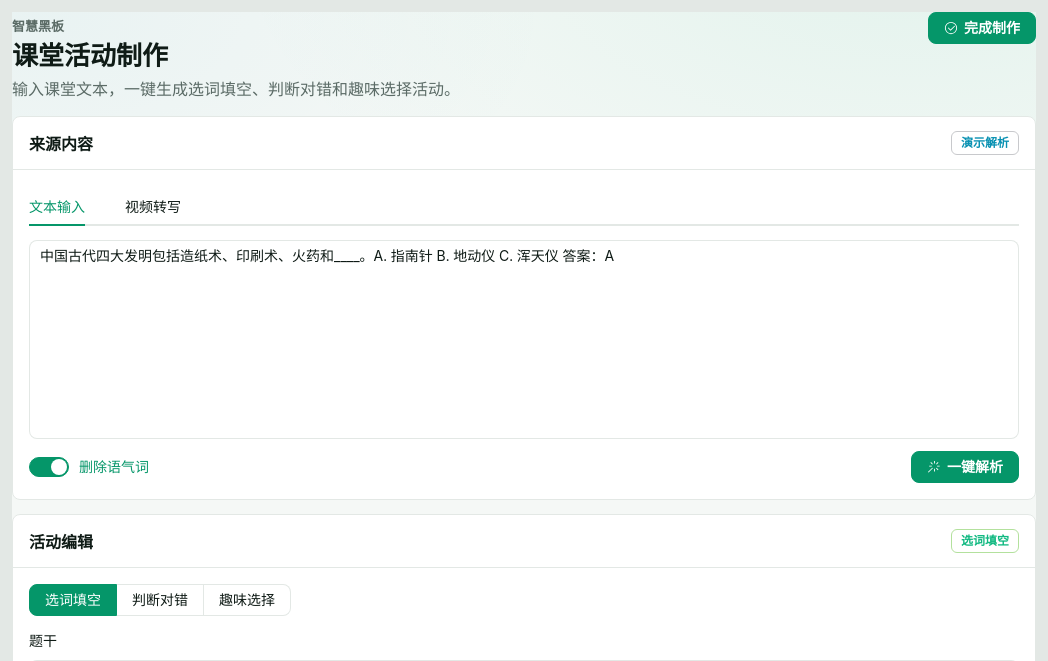
Test case: SmartBlackboardView › shows inline validation when parsing empty source text
Clear the text box with test id "blackboard-source-input" at (524, 340), box [29,240,1019,439]
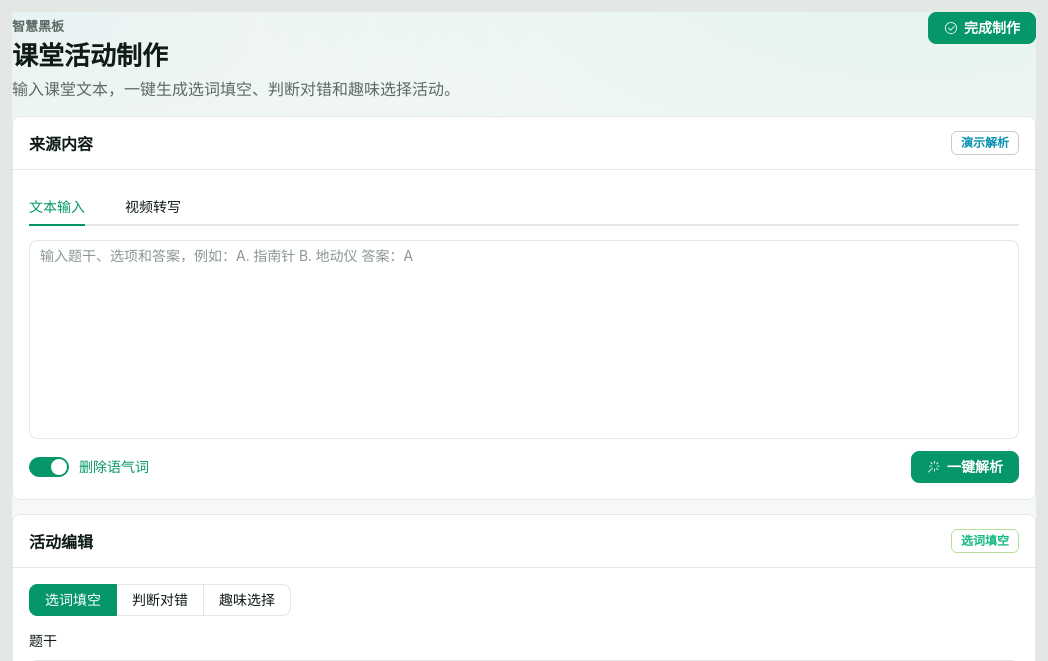
Click the button with test id "blackboard-parse-button" at (965, 467), box [911,451,1019,483]
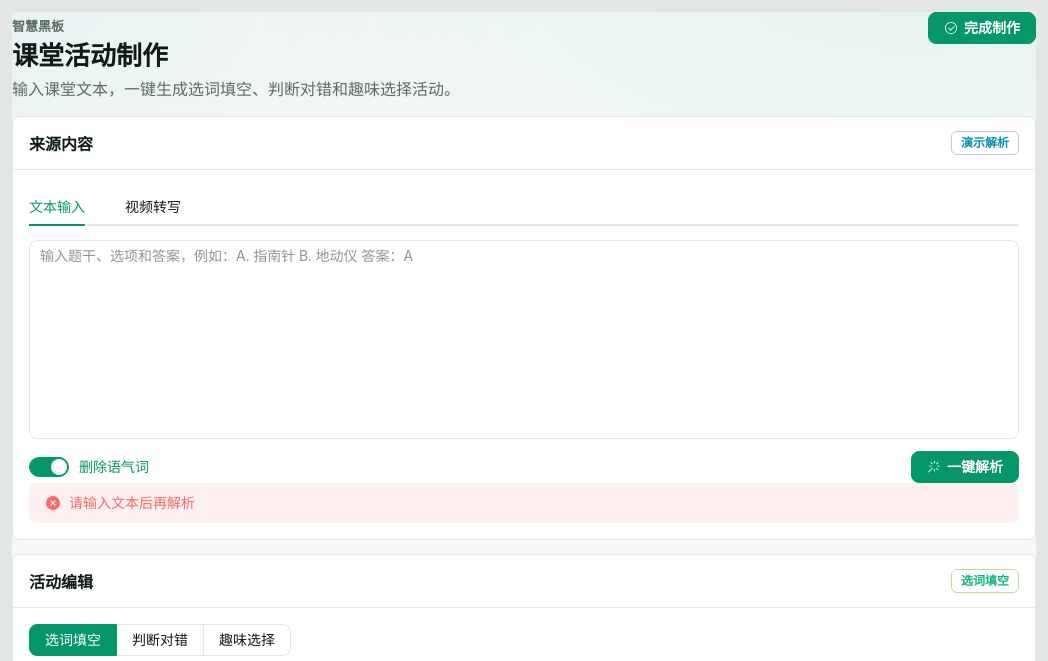
Result: the text "请输入文本后再解析" is shown at [69,491,195,515]
